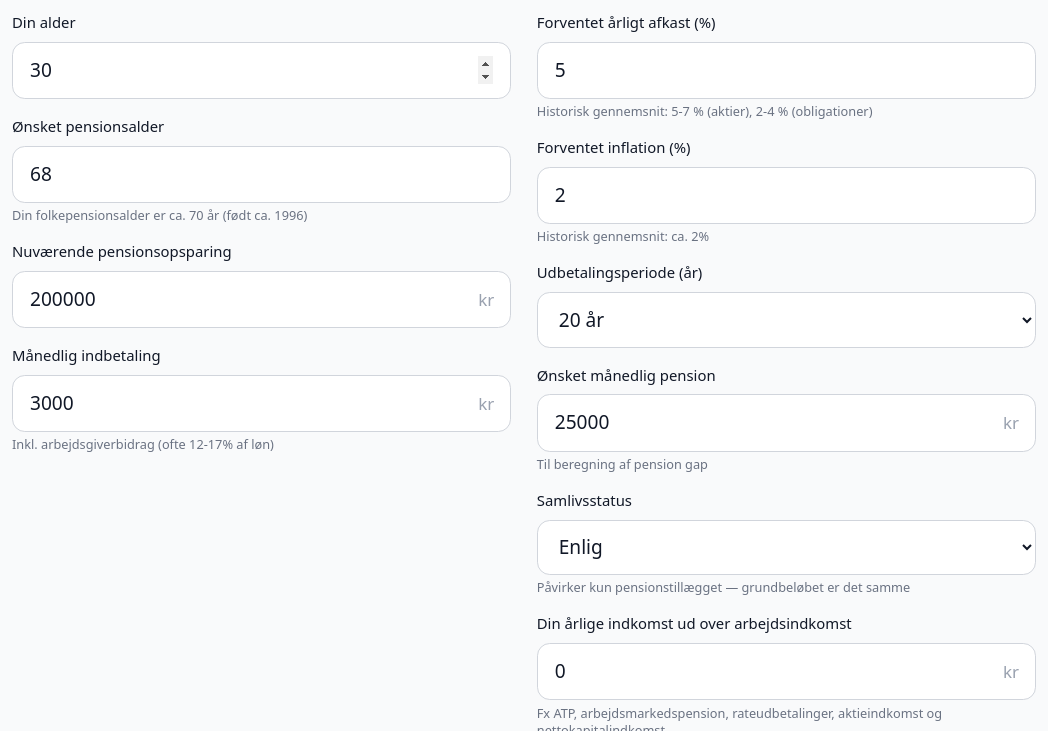
Test: Feltnavn for skærmlæsere — de fire mest besøgte beregnere › da › /pension: udbetalingsperiode og samlever-pensionist har navn
The width and height of the screenshot is (1048, 731).
expect the number field labelled "Din alder" is shown: met, box [12,42,511,99]
expect the number field labelled "Ønsket pensionsalder" is shown: met, box [12,146,511,203]
Select "Gift eller samlevende" in the dropdown labelled "Samlivsstatus". click: coordinates (786, 547)
box: [537,520,1036,575]
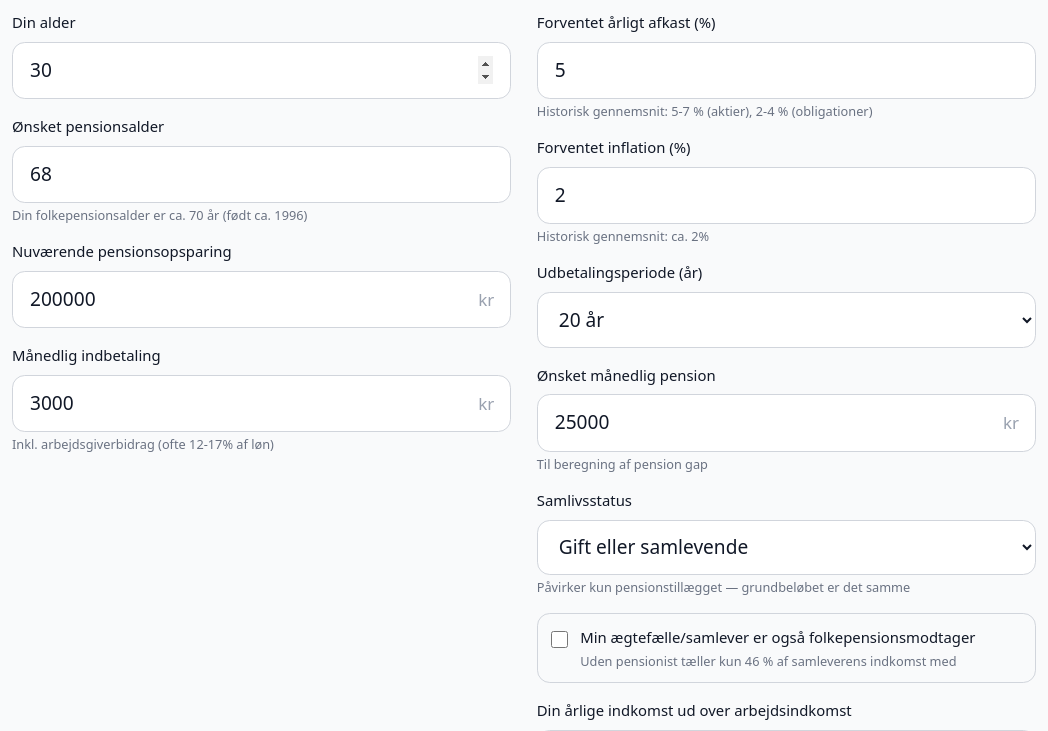
expect the number field labelled "Din alder" is shown: met, box [12,42,511,99]
expect the checkbox is shown: met, box [550,631,568,648]
